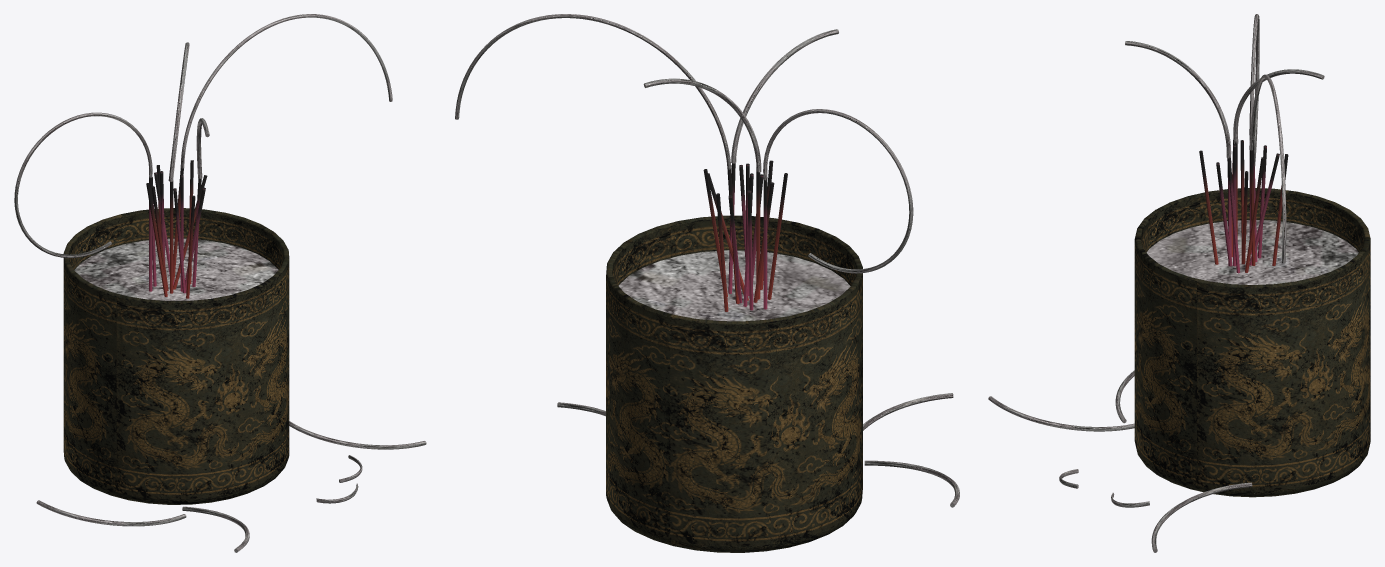
The model's file is lu-huong.glb.
The picture shows the model from 3 angles, left to right: view 1: azimuth 30°, elevation 25°; view 2: azimuth 150°, elevation 25°; view 3: azimuth 270°, elevation 25°; orthographic projection. The views are drawn at different scales.
Visible parts, largest first — view 1: lu-huong, tro, Cylinder.003, chan-nhang; view 2: lu-huong, tro, Cylinder.003, chan-nhang; view 3: lu-huong, tro, Cylinder.003, chan-nhang.
Boxes of the visible parts, x1,y1,x2,y2 form: lu-huong: (63, 208, 289, 504); tro: (74, 238, 278, 300); Cylinder.003: (14, 14, 426, 552); chan-nhang: (146, 160, 207, 298); lu-huong: (606, 215, 862, 552); tro: (618, 250, 850, 321); Cylinder.003: (455, 14, 959, 507); chan-nhang: (703, 160, 787, 311); lu-huong: (1134, 188, 1370, 497); tro: (1146, 220, 1358, 284); Cylinder.003: (988, 14, 1324, 552); chan-nhang: (1199, 136, 1288, 273).
Bounding box in the file's own units: 4.05 × 3.96 × 3.24.
Materials: 8 (8 with a texture image).
